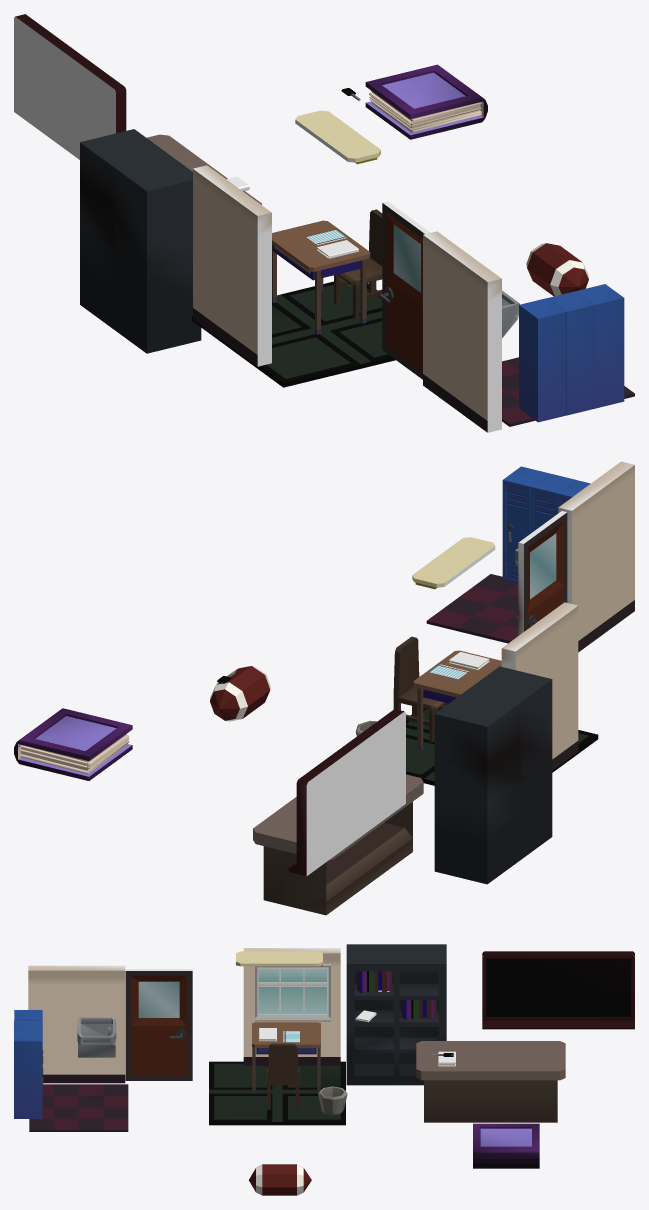
The model's file is storyGameSchoolStuff.fbx.
The picture shows the model from 3 angles, top to bottom: view 1: azimuth 30°, elevation 25°; view 2: azimuth 150°, elevation 25°; view 3: azimuth 270°, elevation 25°; orthographic projection. The views are drawn at different scales.
Visible parts, largest first — view 1: shelf, wall, wall.001, Cube.009, floorInside, door', Cube.010, Cube, Cube.005, Cube.003, deskBody, Cylinder.001 (+4 smaller); view 2: shelf, Cube.009, wall, TeacherDesk, wall.001, Cube.010, door', Floortile, Cube.003, Cylinder.001, vhair, Cube.008 (+3 smaller); view 3: Cube.009, shelf, TeacherDesk, wall, door', floorInside, Floortile, window, wall.001, Cube.010, Cube.003, Cylinder.001 (+8 smaller).
Part boxes in pixels (left/top/right/bottom): shelf: left=80, top=129, right=201, bottom=353; wall: left=423, top=231, right=501, bottom=432; wall.001: left=193, top=165, right=271, bottom=366; Cube.009: left=14, top=14, right=126, bottom=159; floorInside: left=192, top=281, right=395, bottom=387; door': left=382, top=201, right=430, bottom=379; Cube.010: left=365, top=64, right=487, bottom=139; Cube: left=519, top=298, right=566, bottom=422; Cube.005: left=548, top=291, right=595, bottom=415; Cube.003: left=577, top=284, right=624, bottom=408; deskBody: left=272, top=220, right=370, bottom=280; Cylinder.001: left=526, top=243, right=588, bottom=296; shelf: left=434, top=666, right=552, bottom=884; Cube.009: left=288, top=709, right=405, bottom=876; wall: left=558, top=461, right=634, bottom=652; TeacherDesk: left=253, top=774, right=423, bottom=915; wall.001: left=501, top=602, right=578, bottom=770; Cube.010: left=14, top=708, right=132, bottom=780; door': left=518, top=511, right=567, bottom=635; Floortile: left=426, top=574, right=518, bottom=643; Cube.003: left=502, top=466, right=548, bottom=583; Cylinder.001: left=210, top=666, right=270, bottom=721; vhair: left=393, top=636, right=448, bottom=742; Cube.008: left=412, top=537, right=495, bottom=589; Cube.009: left=482, top=951, right=634, bottom=1029; shelf: left=346, top=944, right=446, bottom=1085; TeacherDesk: left=416, top=1041, right=565, bottom=1122; wall: left=28, top=965, right=125, bottom=1083; door': left=125, top=969, right=192, bottom=1080; floorInside: left=209, top=1061, right=345, bottom=1125; Floortile: left=29, top=1084, right=128, bottom=1131; window: left=255, top=964, right=330, bottom=1021; wall.001: left=243, top=948, right=340, bottom=1065; Cube.010: left=473, top=1123, right=539, bottom=1168; Cube.003: left=14, top=1031, right=42, bottom=1118; Cylinder.001: left=249, top=1164, right=311, bottom=1195.
Bounding box in the file's own units: 1099 × 534 × 1860.
